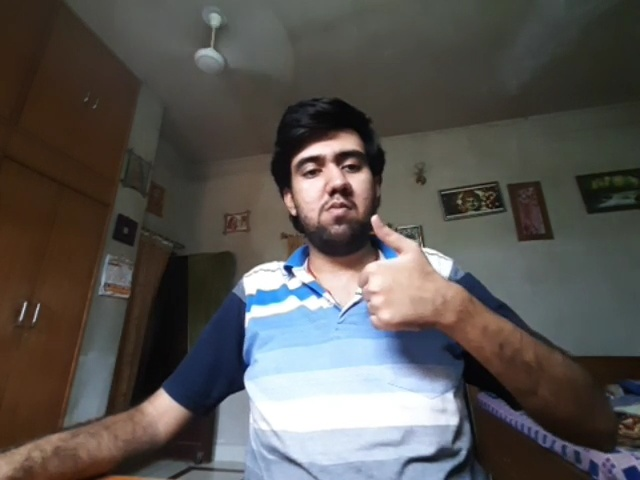Ok: (359, 215, 437, 329)
